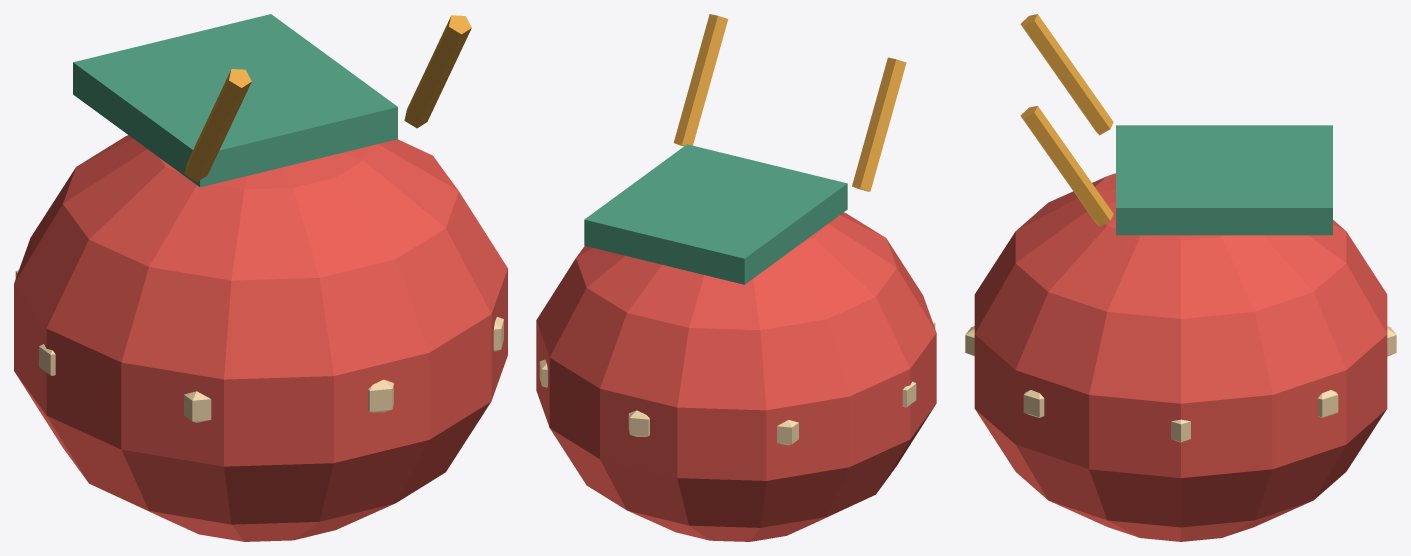
File: ParkParkCandyPod.obj
The picture shows the model from 3 angles, left to right: view 1: azimuth 30°, elevation 25°; view 2: azimuth 150°, elevation 25°; view 3: azimuth 270°, elevation 25°; orthographic projection. The views are drawn at different scales.
Parts seen in each view (by area): view 1: ParkParkCandyPod; view 2: ParkParkCandyPod; view 3: ParkParkCandyPod.
Boxes of the visible parts, box(x1,y1,x2,y2) form: ParkParkCandyPod: box(14, 14, 507, 541); ParkParkCandyPod: box(536, 14, 936, 541); ParkParkCandyPod: box(965, 14, 1396, 541).
Size of the model in its own units: 1.98 by 2.33 by 1.99.
